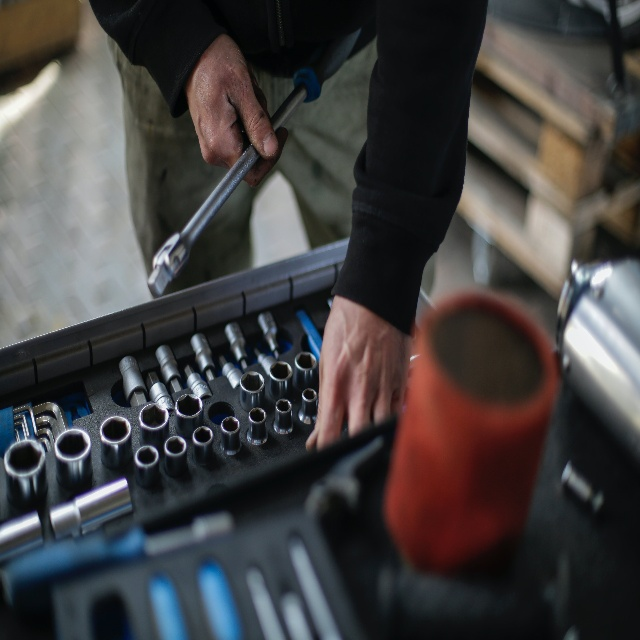Sin_guantes: (305, 294, 410, 443), (188, 46, 284, 183)
